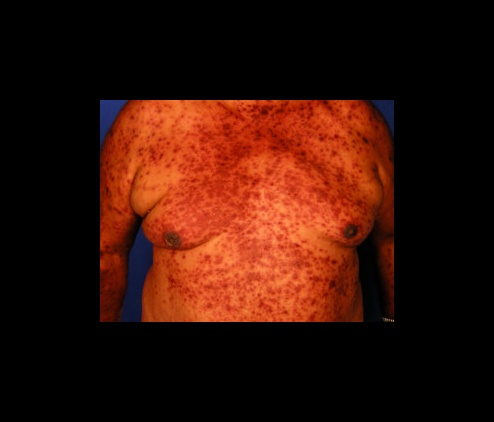SJS-TEN: (95, 98, 397, 326)
